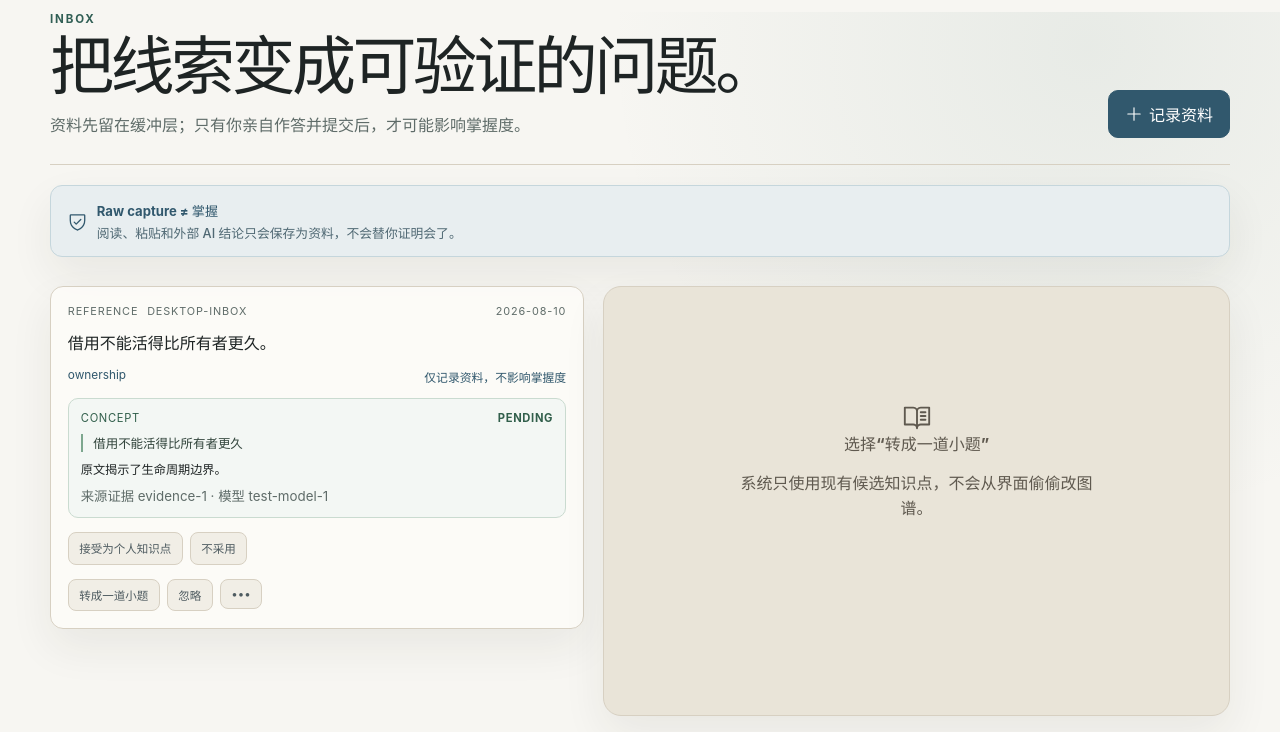
Test case: InboxPage › shows citation provenance and requires an explicit overlay decision
Expected: the text "借用不能活得比所有者更久" is shown, [81,434,553,452]
Expected: the text "来源证据 evidence-1 · 模型 test-model-1" is shown, [81,488,328,504]
Click the button "接受为个人知识点": point(125, 548) [68,532,183,564]
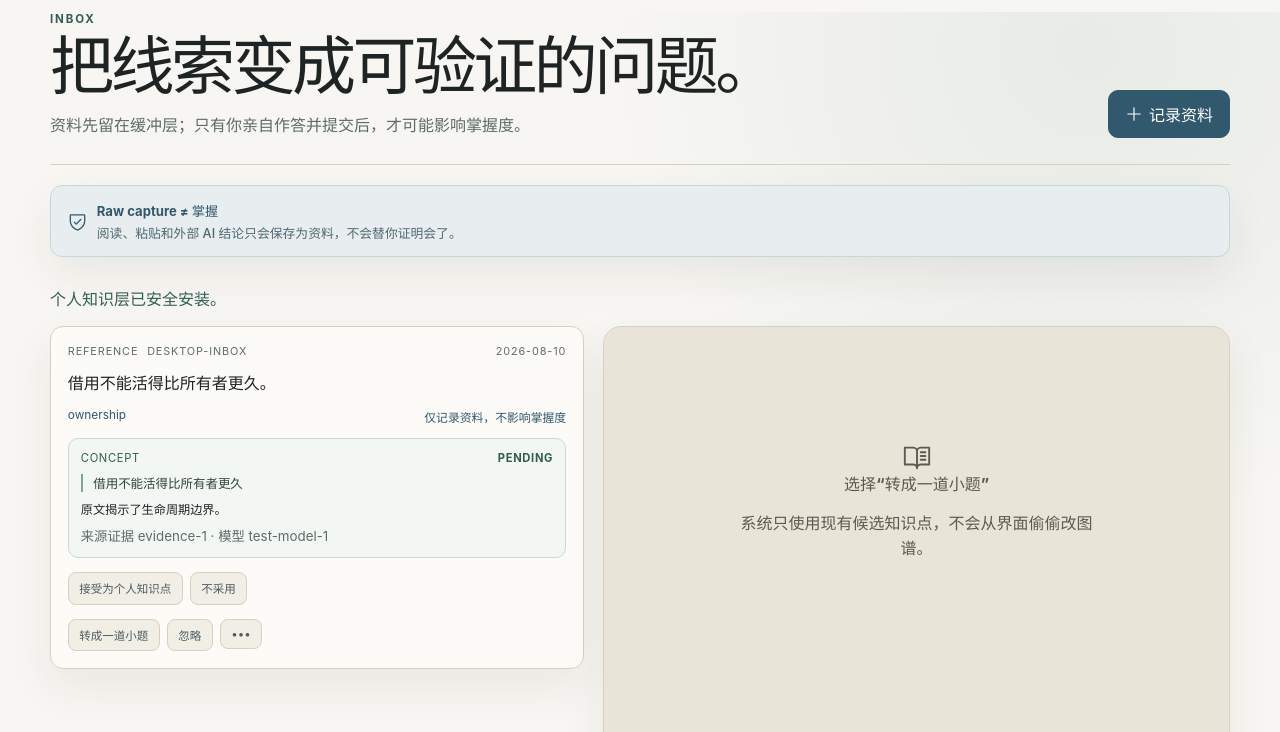
Now the message shows "个人知识层已安全安装", box [50,289,226,309]
